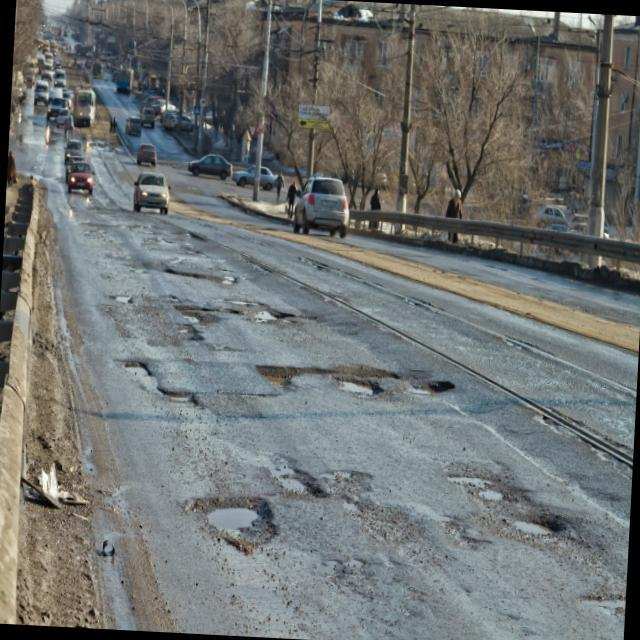Pothole: (197, 470, 275, 546), (120, 358, 210, 417), (494, 501, 571, 562), (452, 462, 522, 524), (235, 338, 328, 384), (266, 458, 331, 510), (167, 262, 252, 296), (401, 369, 471, 404), (335, 375, 389, 410), (232, 310, 298, 327), (163, 344, 202, 366), (172, 308, 218, 325), (119, 296, 142, 321), (226, 300, 253, 316)
